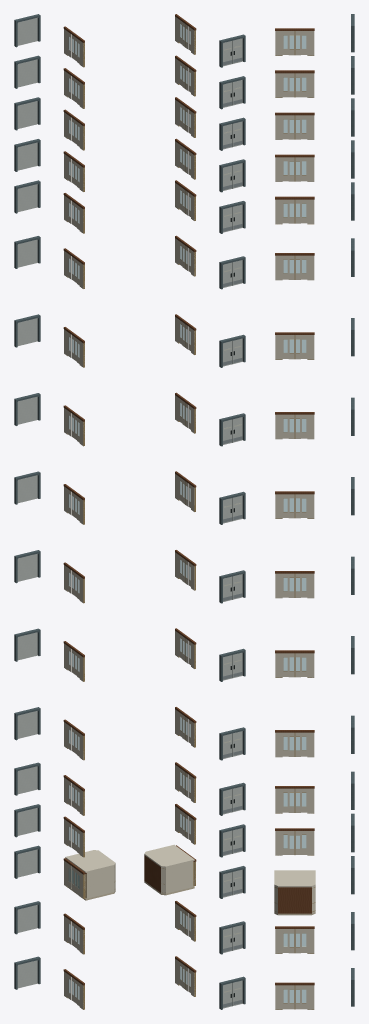
The model's file is AST-STF-G3-046.glb.
3 views of the same model, side by side, from view 1: azimuth 30°, elevation 25°; view 2: azimuth 210°, elevation 25°; view 3: azimuth 270°, elevation 25° (orthographic).
Visible parts, largest first — view 1: SourceCabinAtD03__CAB_ivory_enamel; view 2: SourceCabinAtD03__CAB_ivory_enamel, SourceCabinAtD03__CAB_warm_walnut; view 3: SourceCabinAtD03__CAB_ivory_enamel, SourceCabinAtD03__CAB_warm_walnut, Landing_D05__LIFT_fixed_ivory_enamel, Landing_D06__LIFT_fixed_ivory_enamel, Landing_D08__LIFT_fixed_ivory_enamel, Landing_D10__LIFT_fixed_ivory_enamel, Landing_D12__LIFT_fixed_ivory_enamel, Landing_D01__LIFT_fixed_ivory_enamel, Landing_D02__LIFT_fixed_ivory_enamel, Landing_D07__LIFT_fixed_ivory_enamel, Landing_D09__LIFT_fixed_ivory_enamel, Landing_D11__LIFT_fixed_ivory_enamel (+6 smaller).
Part boxes in pixels (x1,y1,x2,y2): SourceCabinAtD03__CAB_ivory_enamel: (65, 850, 115, 898); SourceCabinAtD03__CAB_ivory_enamel: (144, 844, 194, 893); SourceCabinAtD03__CAB_warm_walnut: (144, 855, 160, 892); SourceCabinAtD03__CAB_ivory_enamel: (274, 870, 315, 913); SourceCabinAtD03__CAB_warm_walnut: (278, 887, 311, 913); Landing_D05__LIFT_fixed_ivory_enamel: (275, 788, 314, 813); Landing_D06__LIFT_fixed_ivory_enamel: (275, 732, 314, 757); Landing_D08__LIFT_fixed_ivory_enamel: (275, 573, 314, 598); Landing_D10__LIFT_fixed_ivory_enamel: (275, 414, 314, 439); Landing_D12__LIFT_fixed_ivory_enamel: (275, 255, 314, 280); Landing_D01__LIFT_fixed_ivory_enamel: (275, 985, 314, 1009); Landing_D02__LIFT_fixed_ivory_enamel: (275, 929, 314, 953); Landing_D07__LIFT_fixed_ivory_enamel: (275, 653, 314, 677); Landing_D09__LIFT_fixed_ivory_enamel: (275, 494, 314, 518); Landing_D11__LIFT_fixed_ivory_enamel: (275, 335, 314, 359).
Bounding box in the file's own units: 7.18 × 105 × 7.8.
Materials: 16 (14 with a texture image).
